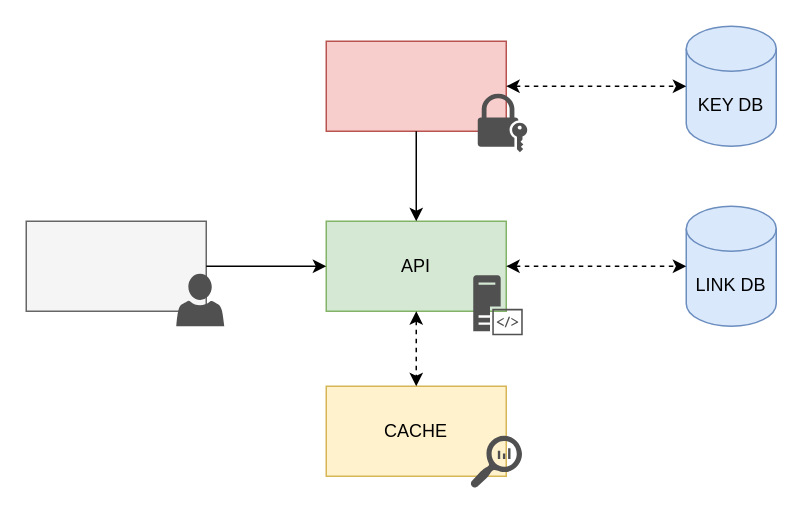
Some shapes in this 803 by 515 pixel diagram are drawn without their labels. The box of each missing label's shape, as (x1, y1, x2, y2) in pixels:
APP: (25, 220, 206, 311)
KGS: (325, 40, 506, 131)
